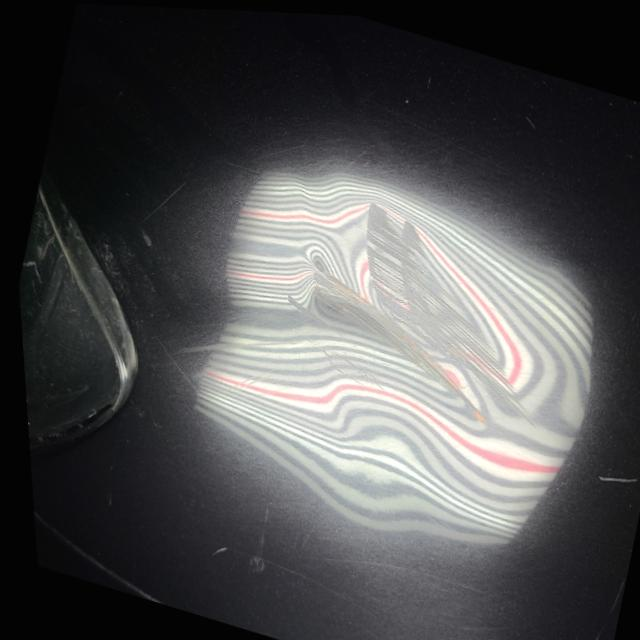PDR-Dent: (281, 182, 551, 528)
Scratch: (308, 198, 521, 420), (292, 330, 382, 390), (287, 292, 339, 335), (142, 176, 188, 221), (173, 340, 300, 354), (597, 475, 636, 482), (208, 545, 227, 555), (140, 228, 151, 245)
